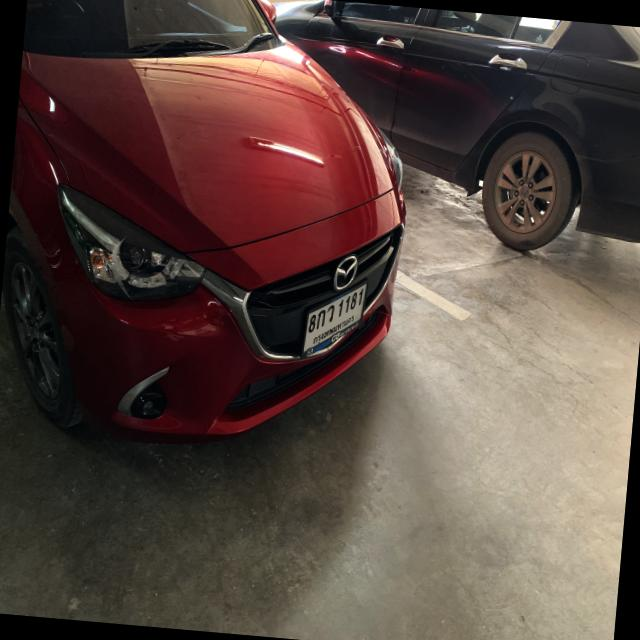license_plate: (298, 270, 372, 369)
